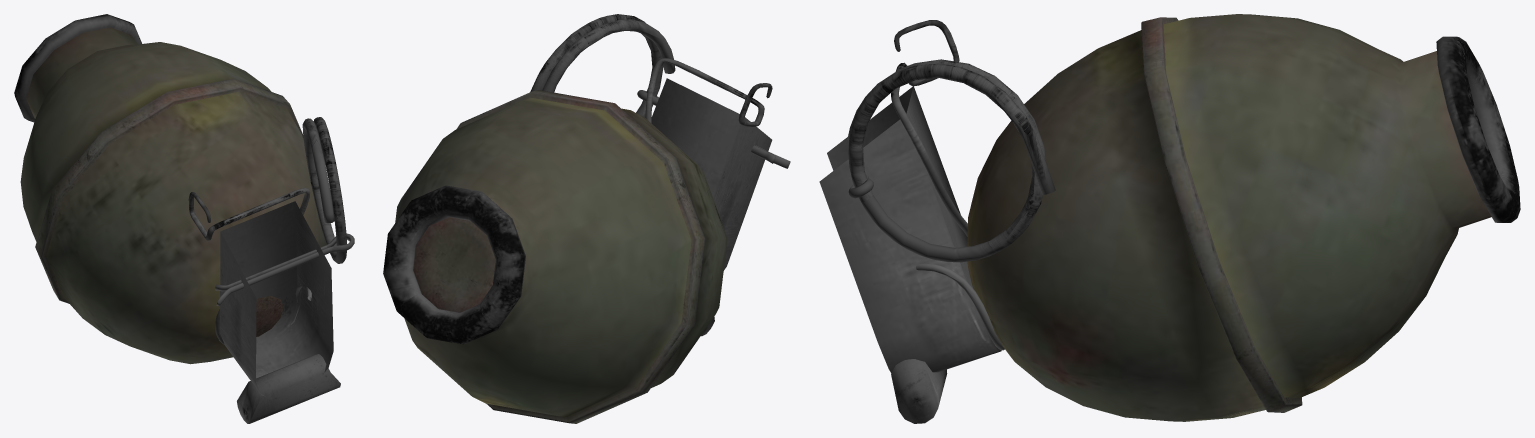
File: nade.glb
The picture shows the model from 3 angles, left to right: view 1: azimuth 30°, elevation 25°; view 2: azimuth 150°, elevation 25°; view 3: azimuth 270°, elevation 25°; orthographic projection. The views are drawn at different scales.
Visible parts, largest first — view 1: Cylinder.002_Material_0; view 2: Cylinder.002_Material_0; view 3: Cylinder.002_Material_0.
Boxes of the visible parts, x1=… form: Cylinder.002_Material_0: x1=14, y1=14, x2=354, y2=423; Cylinder.002_Material_0: x1=383, y1=14, x2=790, y2=423; Cylinder.002_Material_0: x1=819, y1=14, x2=1520, y2=423.
Bounding box in the file's own units: 0.5943 × 0.6003 × 1.
1 material, 1 textured.
